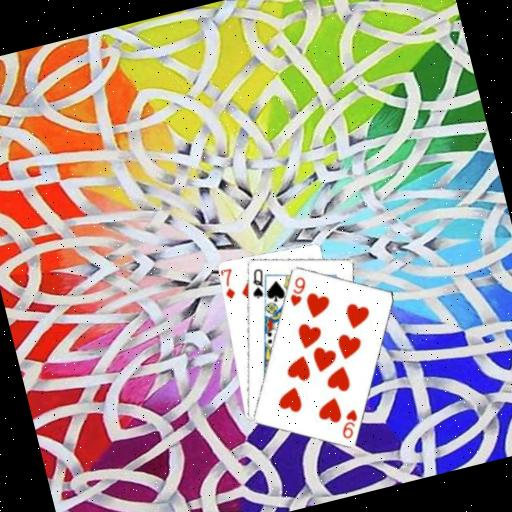7D: (216, 264, 240, 302)
9H: (282, 272, 313, 309), (333, 405, 364, 442)
QS: (243, 264, 270, 301)
